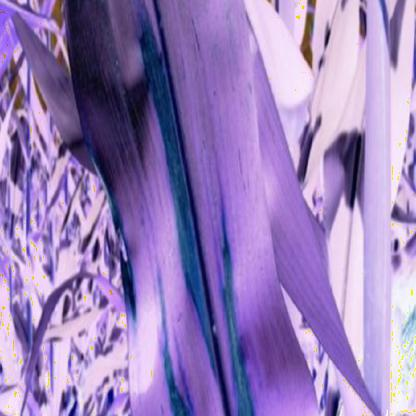Corn leaf blight: (66, 1, 300, 415)
